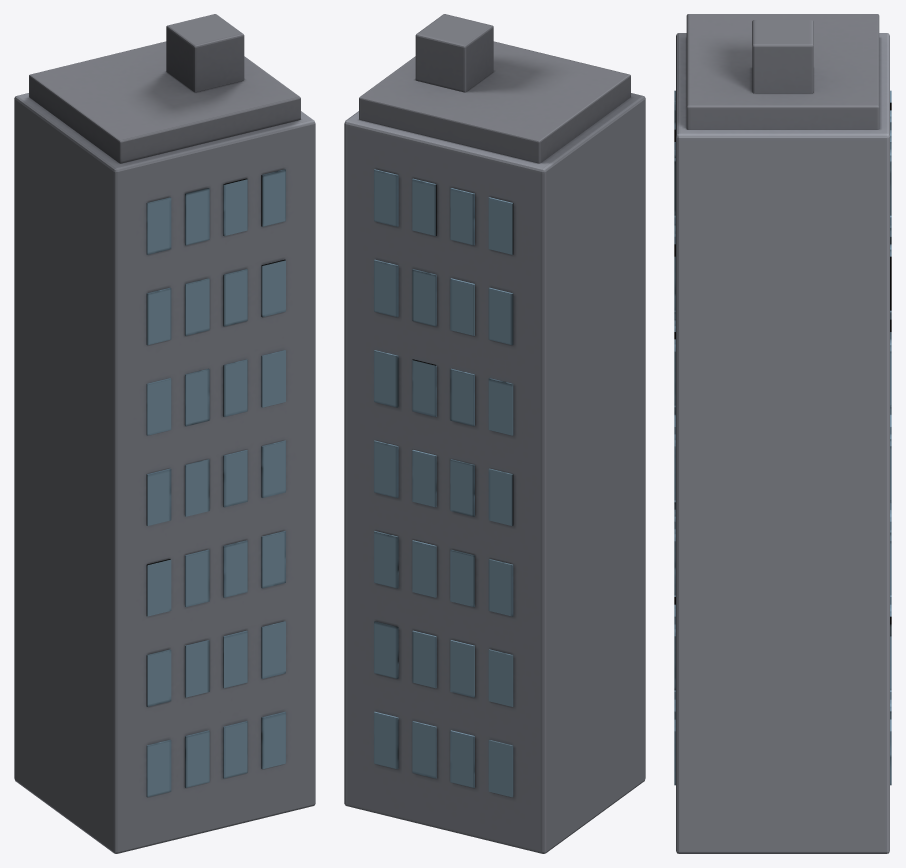
The model's file is building_a.glb.
3 renders of one model, left to right at view 1: azimuth 30°, elevation 25°; view 2: azimuth 150°, elevation 25°; view 3: azimuth 270°, elevation 25°, orthographic. The views are drawn at different scales.
Parts seen in each view (by area): view 1: building_a; view 2: building_a; view 3: building_a.
Boxes of the visible parts, x1=… form: building_a: x1=14, y1=14, x2=315, y2=853; building_a: x1=344, y1=14, x2=645, y2=853; building_a: x1=674, y1=14, x2=891, y2=853.
Bounding box in the file's own units: 8 × 28.6 × 7.12.
3 materials, 3 textured.
